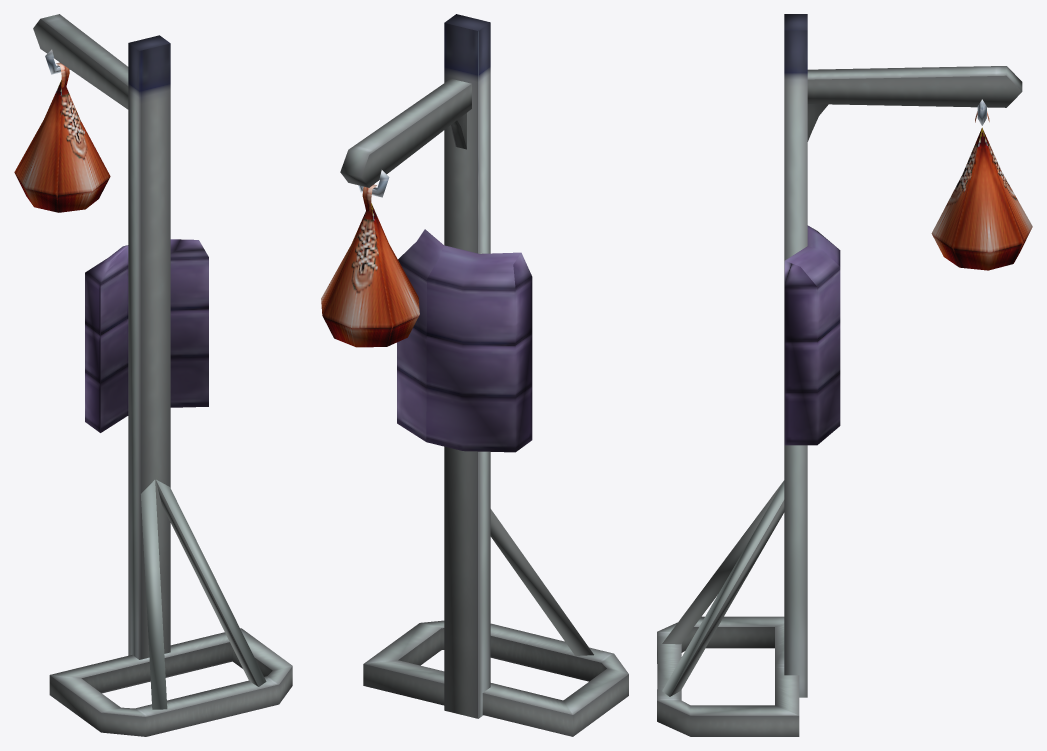
File: a_SCtr05.glb
3 renders of one model, left to right at view 1: azimuth 30°, elevation 25°; view 2: azimuth 150°, elevation 25°; view 3: azimuth 270°, elevation 25°, orthographic. The views are drawn at different scales.
Visible parts, largest first — view 1: a_SCtr05; view 2: a_SCtr05; view 3: a_SCtr05.
Boxes of the visible parts, <box> form: a_SCtr05: <box>14,14,292,736</box>; a_SCtr05: <box>321,14,628,736</box>; a_SCtr05: <box>657,14,1032,736</box>.
Size of the model in its own units: 0.6376 by 2 by 1.02.
1 material, 1 textured.
